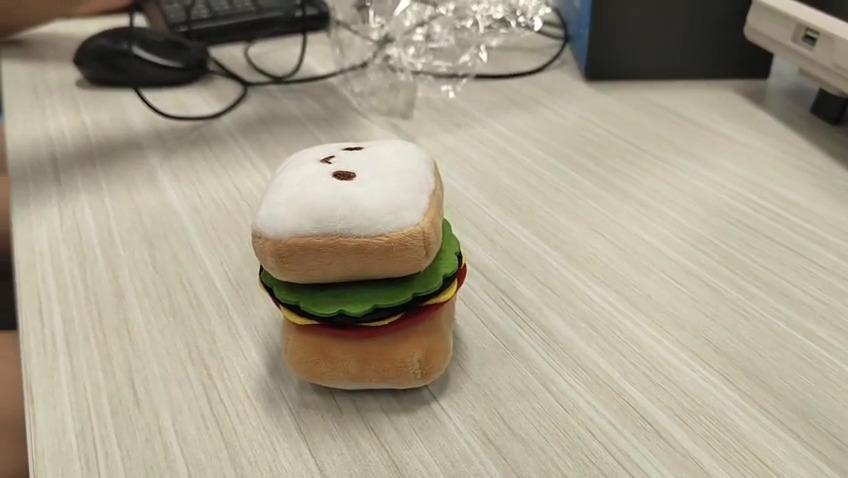objects: (252, 138, 472, 392)
